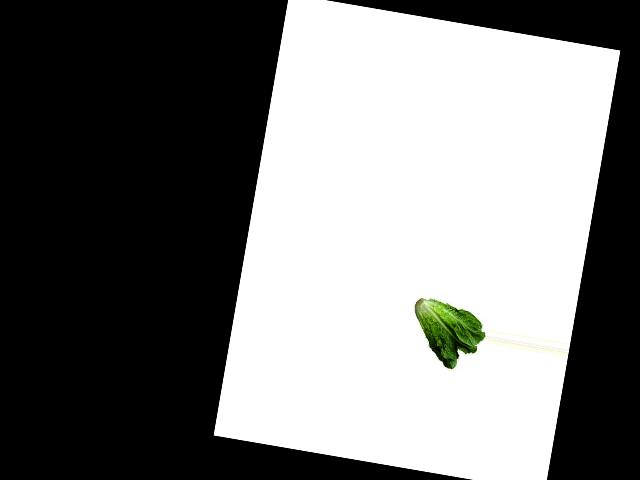lettuce: (405, 294, 491, 376)
